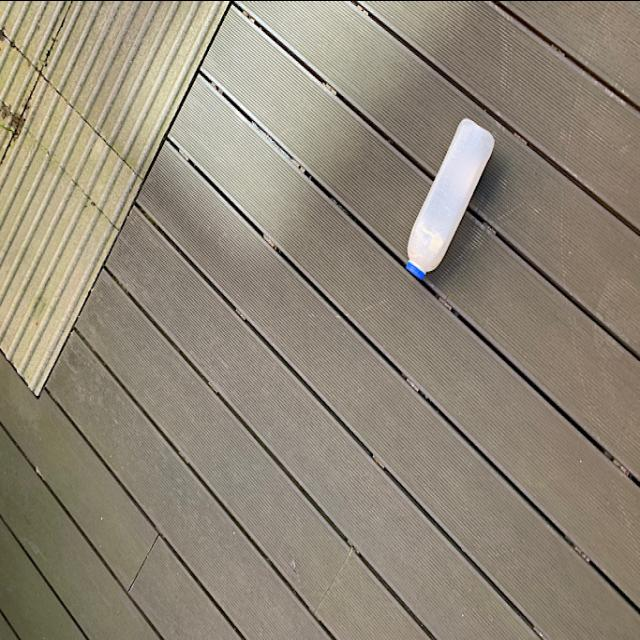HDPEM: (402, 119, 498, 278)
